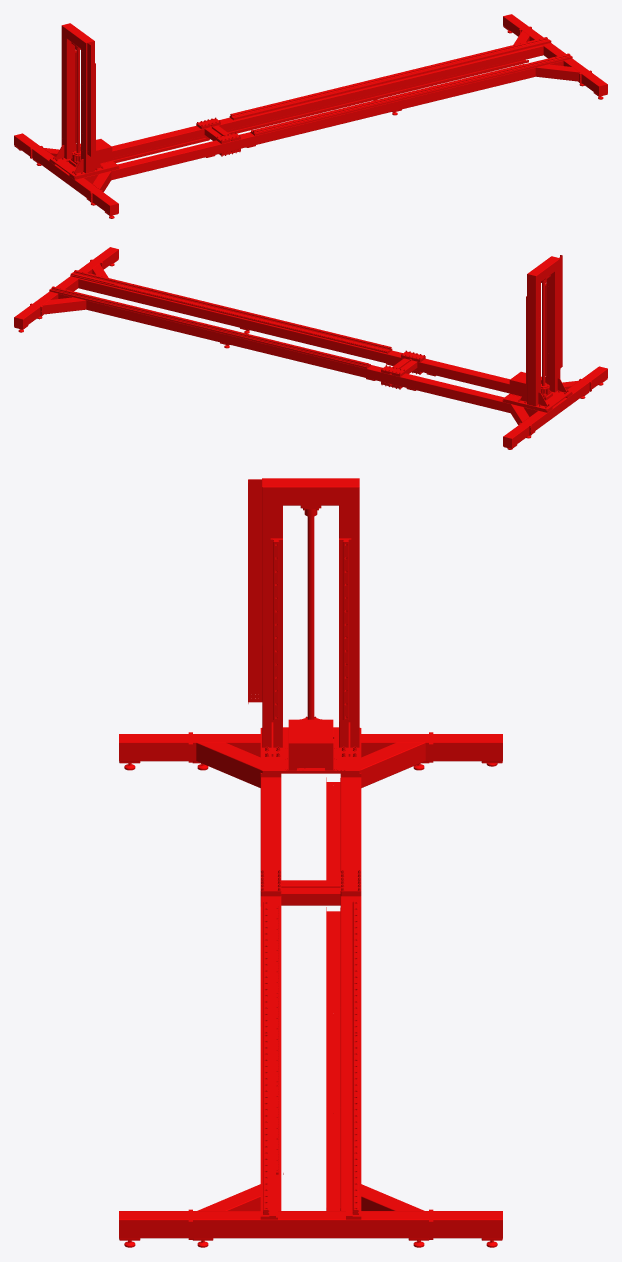
The picture shows the model from 3 angles, top to bottom: view 1: azimuth 30°, elevation 25°; view 2: azimuth 150°, elevation 25°; view 3: azimuth 270°, elevation 25°; orthographic projection. The views are drawn at different scales.
Visible parts, largest first — view 1: node0; view 2: node0; view 3: node0.
Part boxes in pixels (x1,y1,x2,y2): node0: [14, 14, 607, 218]; node0: [14, 247, 607, 449]; node0: [119, 478, 502, 1247].
Size of the model in its own units: 8.3 by 2.75 by 2.35.
